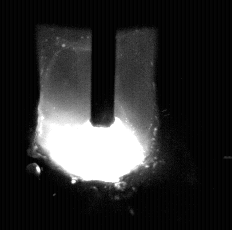arame: (92, 0, 116, 129)
poca: (44, 0, 145, 230)
